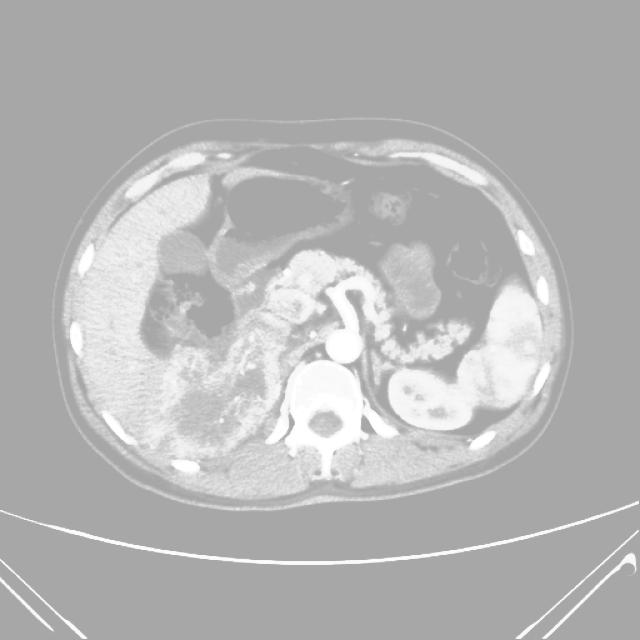TUMOR: (109, 220, 549, 402)
